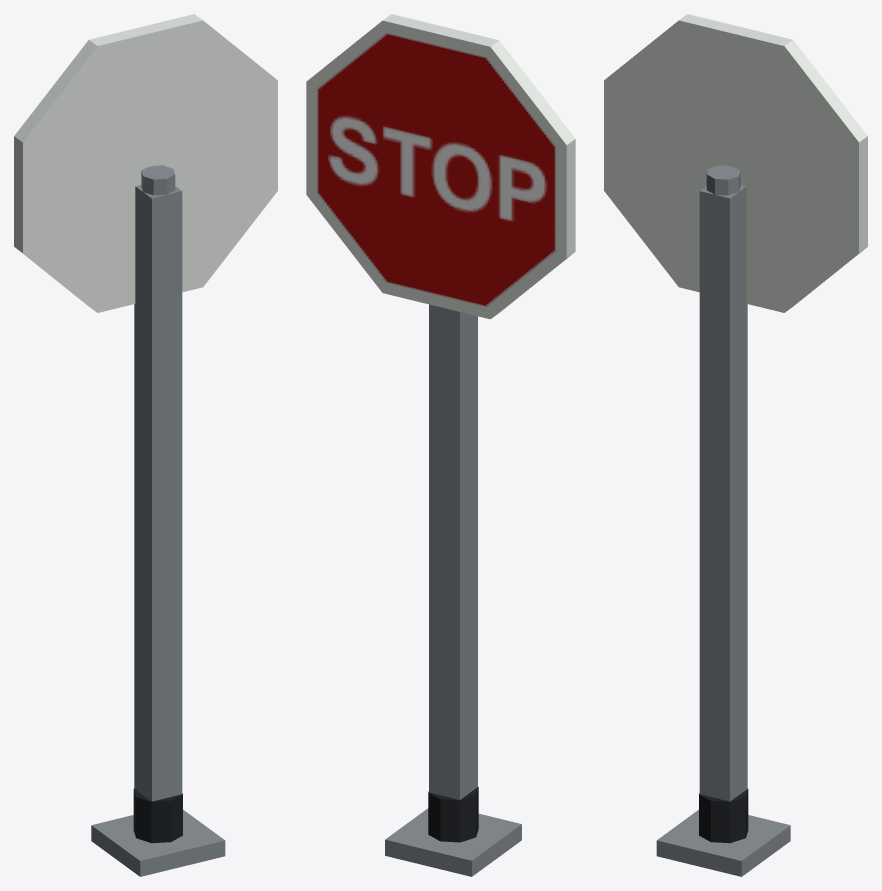
The model's file is stop-sign.glb.
The picture shows the model from 3 angles, left to right: view 1: azimuth 30°, elevation 25°; view 2: azimuth 150°, elevation 25°; view 3: azimuth 330°, elevation 25°; orthographic projection. The views are drawn at different scales.
Visible parts, largest first — view 1: stop-sign (×2); view 2: stop-sign (×2); view 3: stop-sign (×2).
Part boxes in pixels (<box>): stop-sign (×2): <box>14,14,277,876</box>; stop-sign (×2): <box>306,14,575,876</box>; stop-sign (×2): <box>604,14,867,876</box>.
Size of the model in its own units: 2.35 by 7.14 by 0.784.
Materials: 4 (1 with a texture image).
